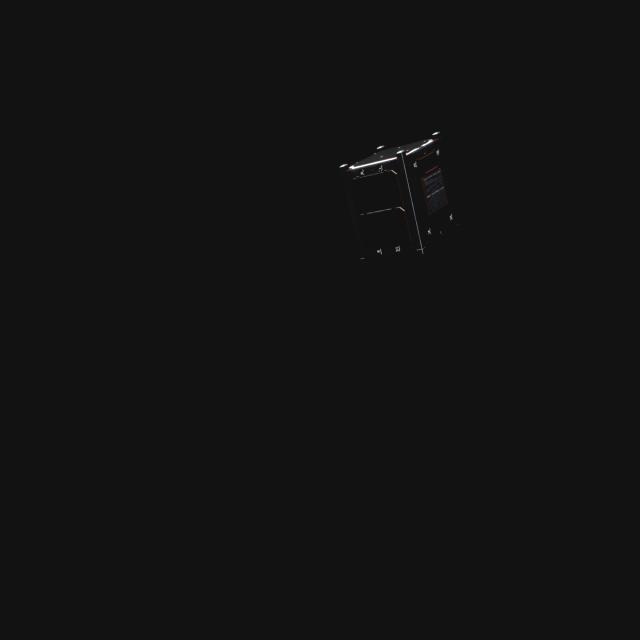medium_debris: (326, 124, 456, 274)
